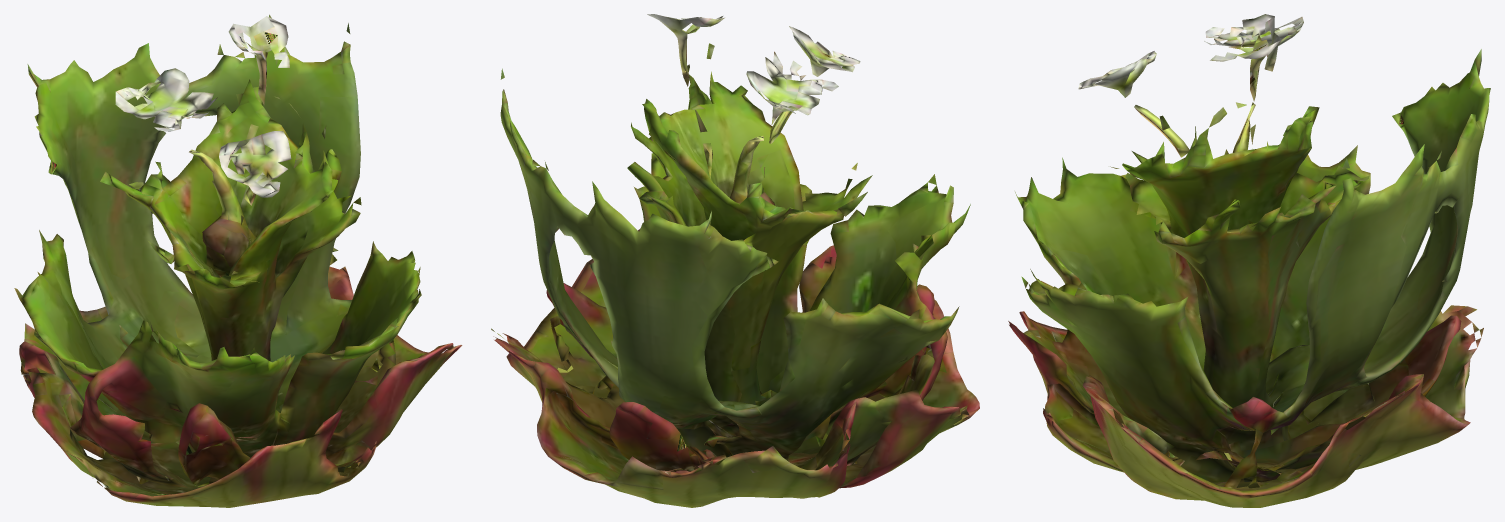
File: aloe.glb
The picture shows the model from 3 angles, left to right: view 1: azimuth 30°, elevation 25°; view 2: azimuth 150°, elevation 25°; view 3: azimuth 270°, elevation 25°; orthographic projection. The views are drawn at different scales.
Size of the model in its own units: 1.95 by 1.99 by 1.9.
1 material, 1 textured.
